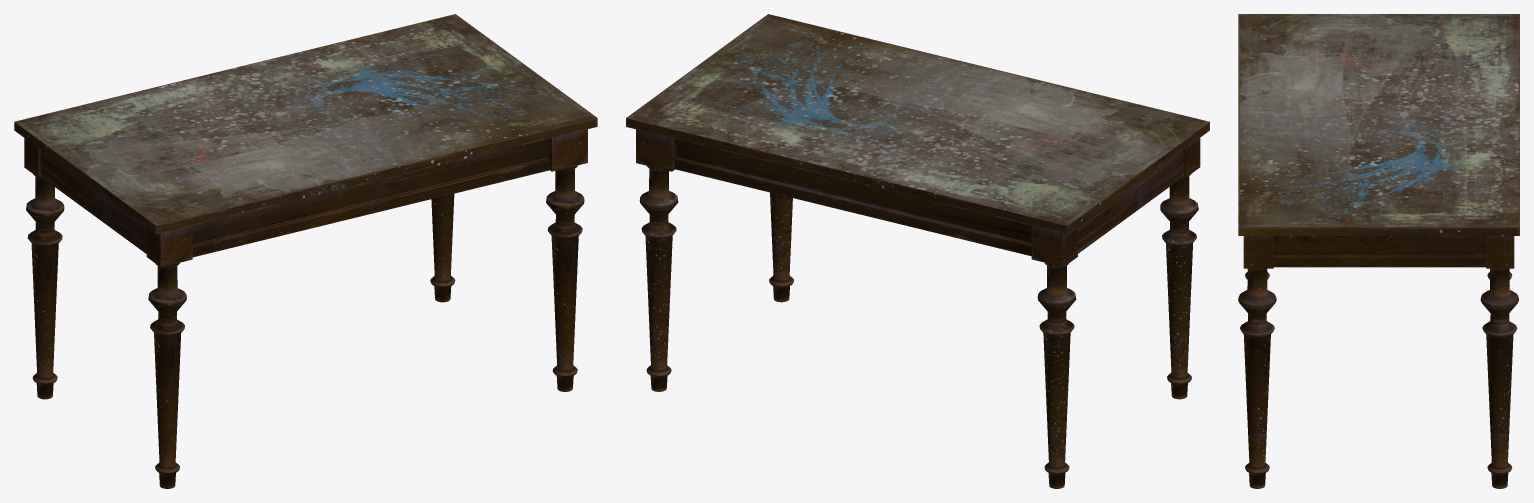
Rendered from o_table_old_01_a.obj.
The picture shows the model from 3 angles, left to right: view 1: azimuth 30°, elevation 25°; view 2: azimuth 150°, elevation 25°; view 3: azimuth 270°, elevation 25°; orthographic projection.
Parts seen in each view (by area): view 1: o_table_old_01_a; view 2: o_table_old_01_a; view 3: o_table_old_01_a.
Part boxes in pixels (x1,y1,x2,y2): o_table_old_01_a: (14,14,597,488); o_table_old_01_a: (626,14,1209,488); o_table_old_01_a: (1238,14,1519,488).
Bounding box in the file's own units: 131 × 77.01 × 72.97.
1 material, 1 textured.
